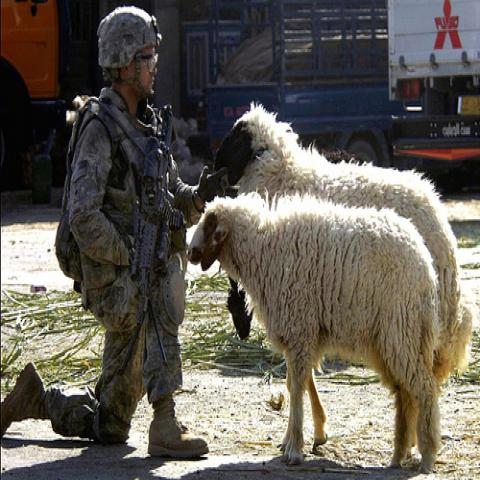truck: (202, 0, 480, 171), (1, 0, 81, 192)
